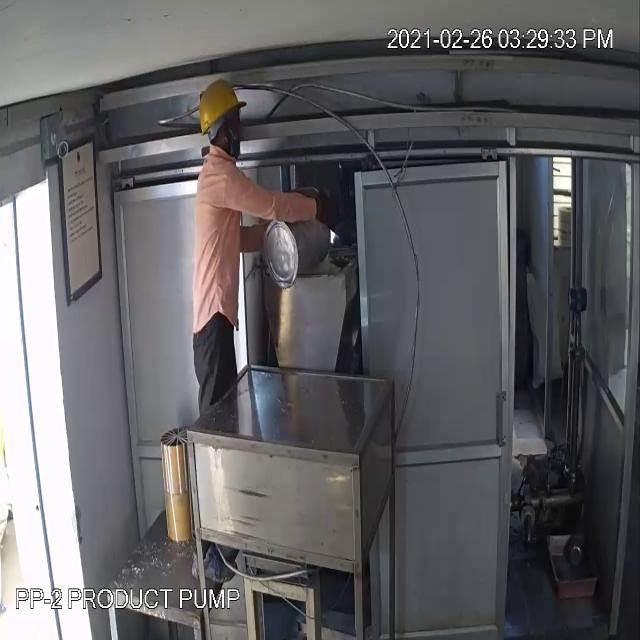Hardhat: (199, 78, 246, 132)
Safety Boots: (204, 544, 234, 583), (221, 548, 238, 562), (191, 553, 199, 578)
